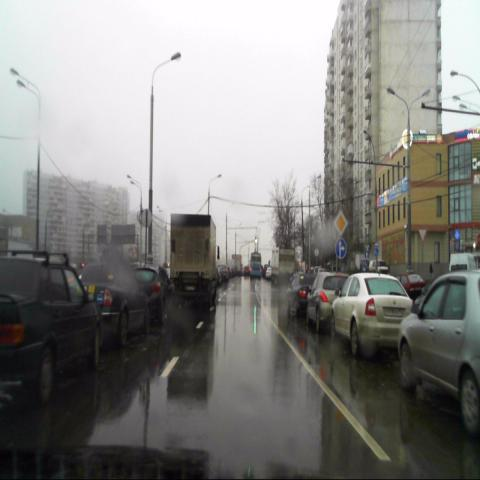4_1_4: (335, 238, 346, 258)
